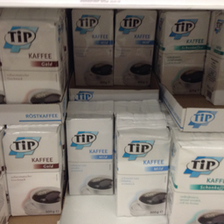coffee: (1, 10, 65, 101), (114, 125, 172, 219), (2, 126, 61, 216), (166, 140, 223, 224), (65, 99, 113, 195), (159, 10, 210, 96), (114, 8, 157, 87), (72, 9, 114, 86)
